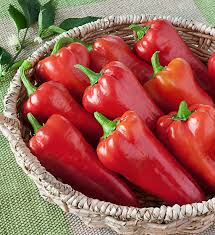bell pepper: (97, 113, 193, 201), (137, 98, 215, 189), (23, 116, 106, 193), (73, 63, 158, 126), (30, 33, 93, 97), (151, 59, 209, 119), (125, 23, 202, 68), (14, 73, 74, 121), (83, 32, 134, 77)
